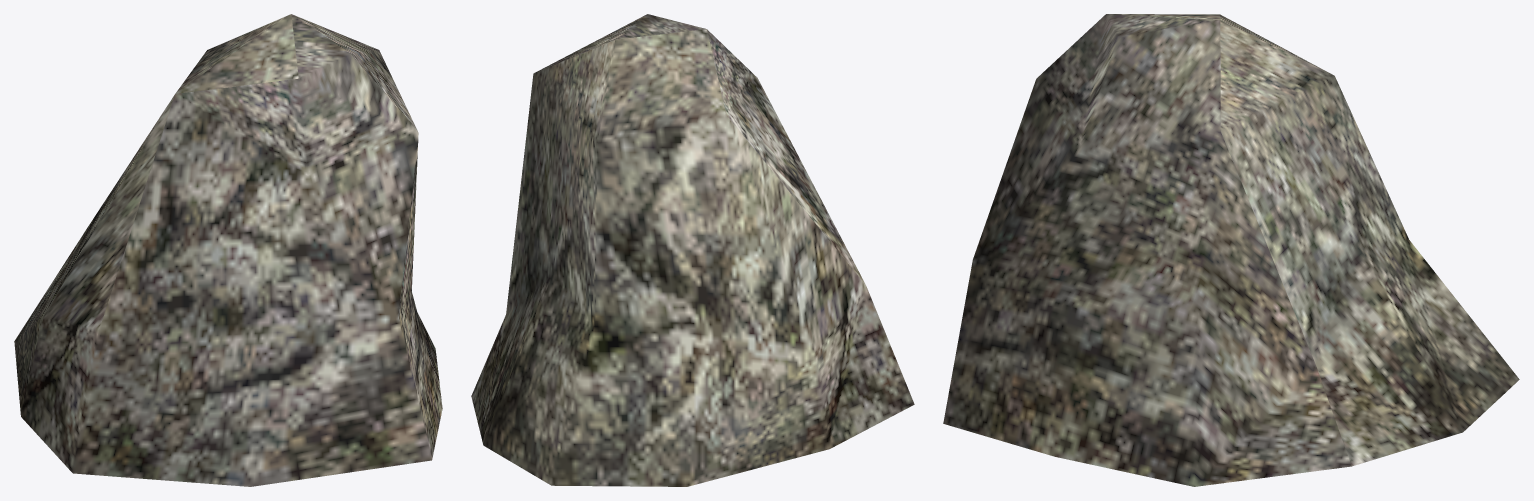
The model's file is general_obj_stone04.fbx.
3 views of the same model, side by side, from view 1: azimuth 30°, elevation 25°; view 2: azimuth 150°, elevation 25°; view 3: azimuth 270°, elevation 25° (orthographic). The views are drawn at different scales.
Parts seen in each view (by area): view 1: Sphere01; view 2: Sphere01; view 3: Sphere01.
Part boxes in pixels (x1,y1,x2,y2): Sphere01: (14, 14, 442, 486); Sphere01: (471, 14, 914, 486); Sphere01: (943, 14, 1519, 486).
Size of the model in its own units: 2.08 by 1.78 by 2.36.
